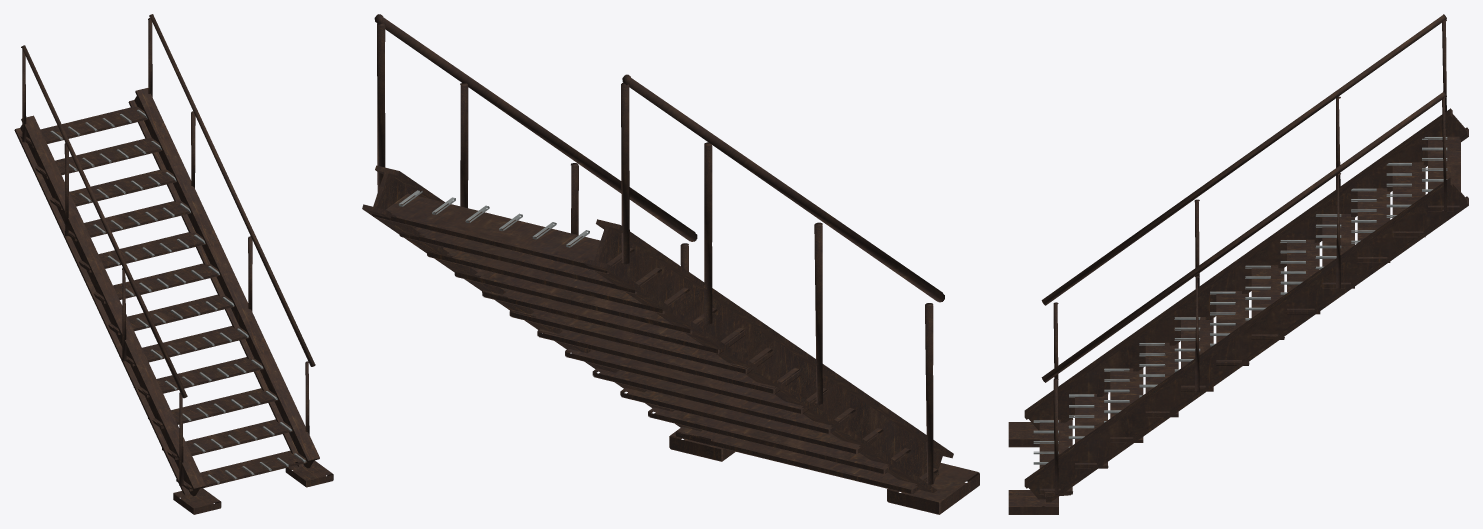
Rendered from lod2_NOT_APPROVED.glb.
3 views of the same model, side by side, from view 1: azimuth 30°, elevation 25°; view 2: azimuth 150°, elevation 25°; view 3: azimuth 270°, elevation 25° (orthographic). The views are drawn at different scales.
Visible parts, largest first — view 1: f3_oxidized_iron_surface, f3_bare_worn_steel_surface; view 2: f3_oxidized_iron_surface, f3_bare_worn_steel_surface; view 3: f3_oxidized_iron_surface, f3_bare_worn_steel_surface.
Part boxes in pixels (x1,y1,x2,y2): f3_oxidized_iron_surface: (14,14,333,514); f3_bare_worn_steel_surface: (50,109,306,483); f3_oxidized_iron_surface: (362,14,979,514); f3_bare_worn_steel_surface: (398,190,589,247); f3_oxidized_iron_surface: (1008,14,1468,514); f3_bare_worn_steel_surface: (1033,137,1447,472).
Size of the model in its own units: 1.62 by 3.76 by 3.73.
2 materials, 2 textured.
